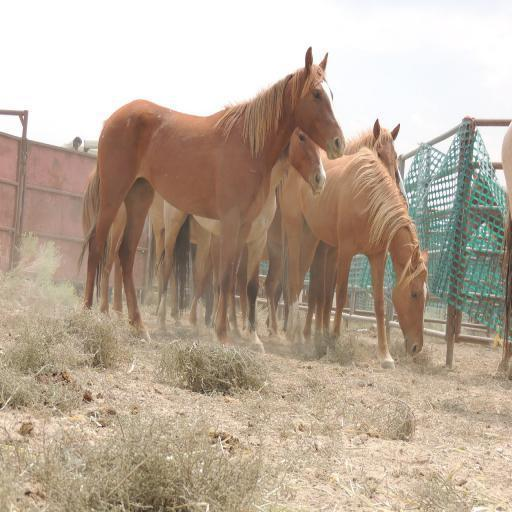horse: (82, 44, 346, 348), (85, 116, 328, 356), (276, 142, 432, 372), (308, 114, 404, 342), (498, 119, 512, 381)
